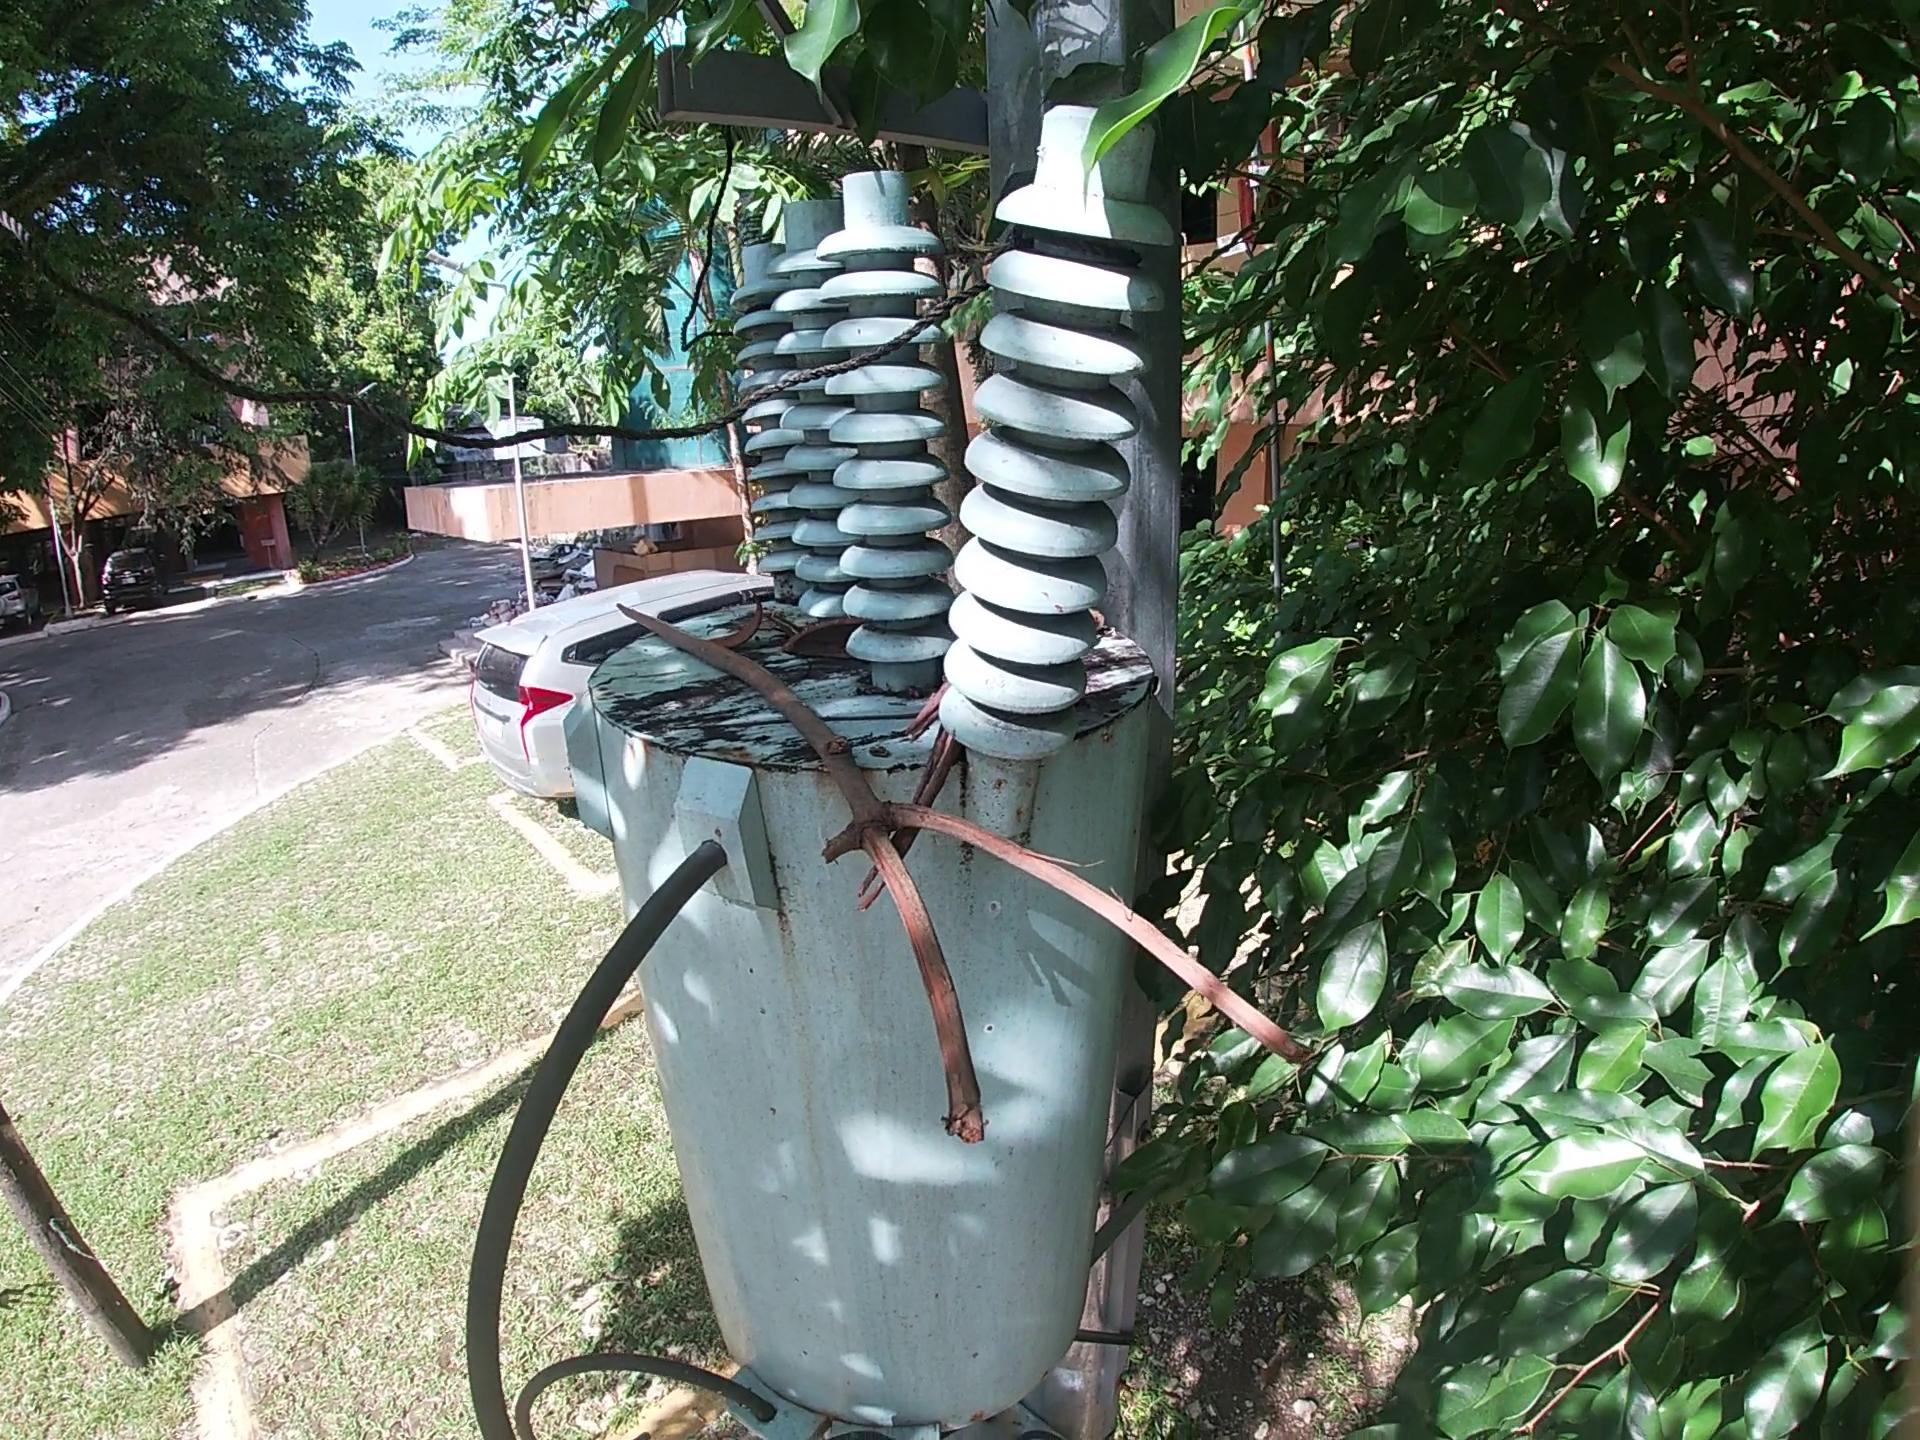mahogany fruit: (785, 625, 847, 672), (729, 593, 777, 643)
tree branch: (621, 601, 1312, 1162), (866, 734, 955, 903), (878, 685, 934, 762), (1089, 611, 1122, 625)
